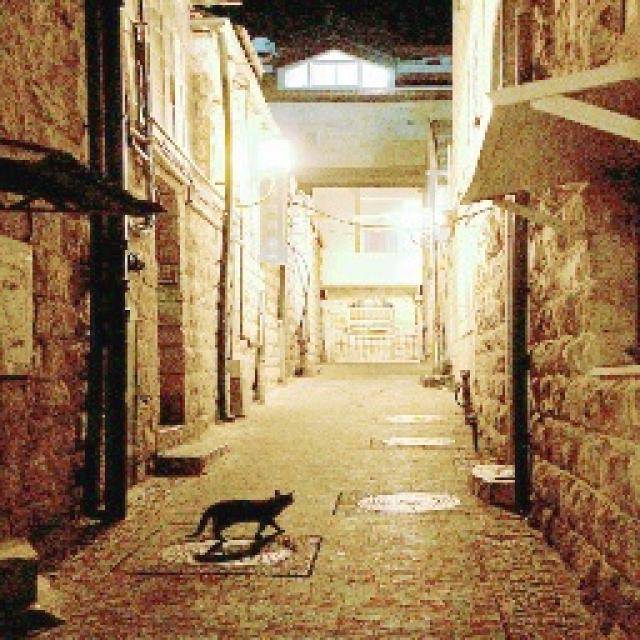cat: (182, 480, 303, 570)
